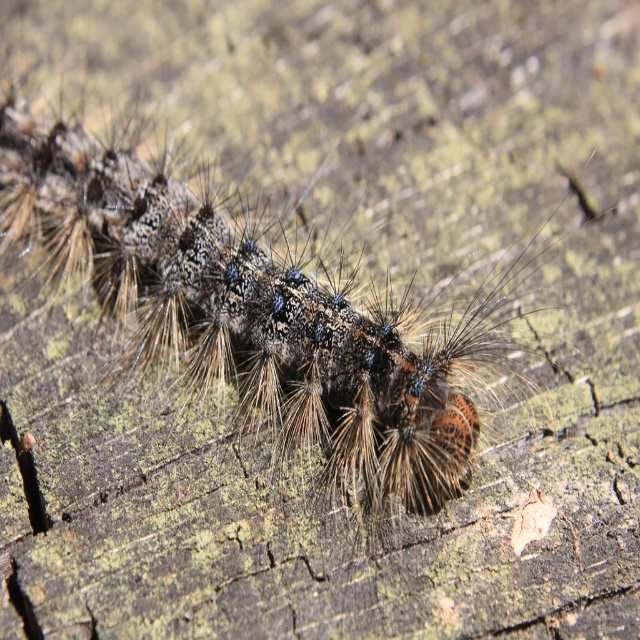Caterpillar: (0, 49, 619, 631)
